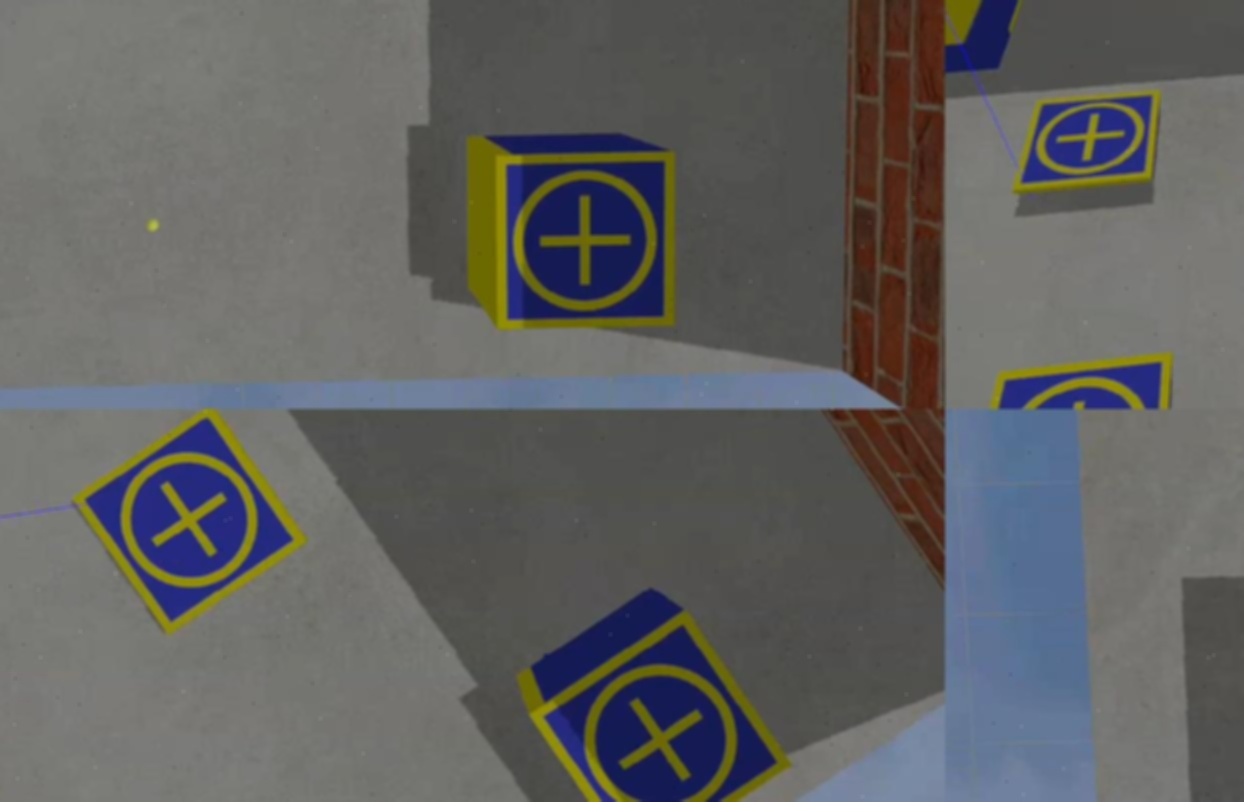large_base: (946, 1, 1041, 83)
small_base: (74, 410, 305, 639), (533, 607, 793, 802), (493, 152, 677, 333), (1011, 88, 1163, 195), (962, 358, 1175, 410)
